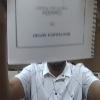notebook: (5, 0, 98, 68)
